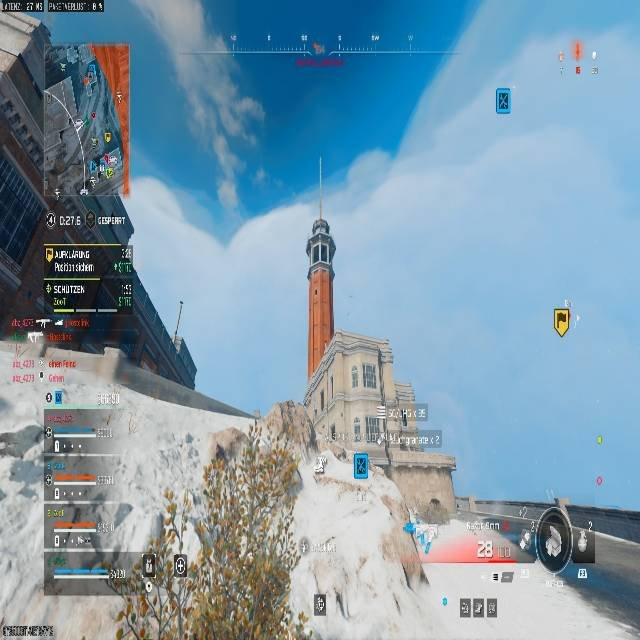player: (277, 452, 440, 638)
